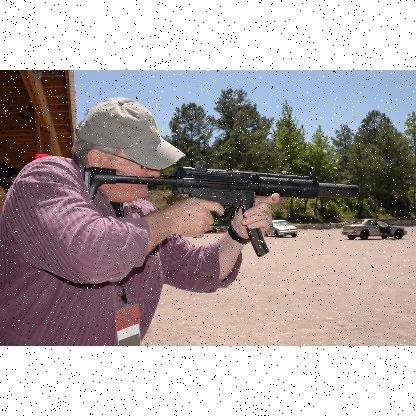gun: (84, 160, 358, 254)
